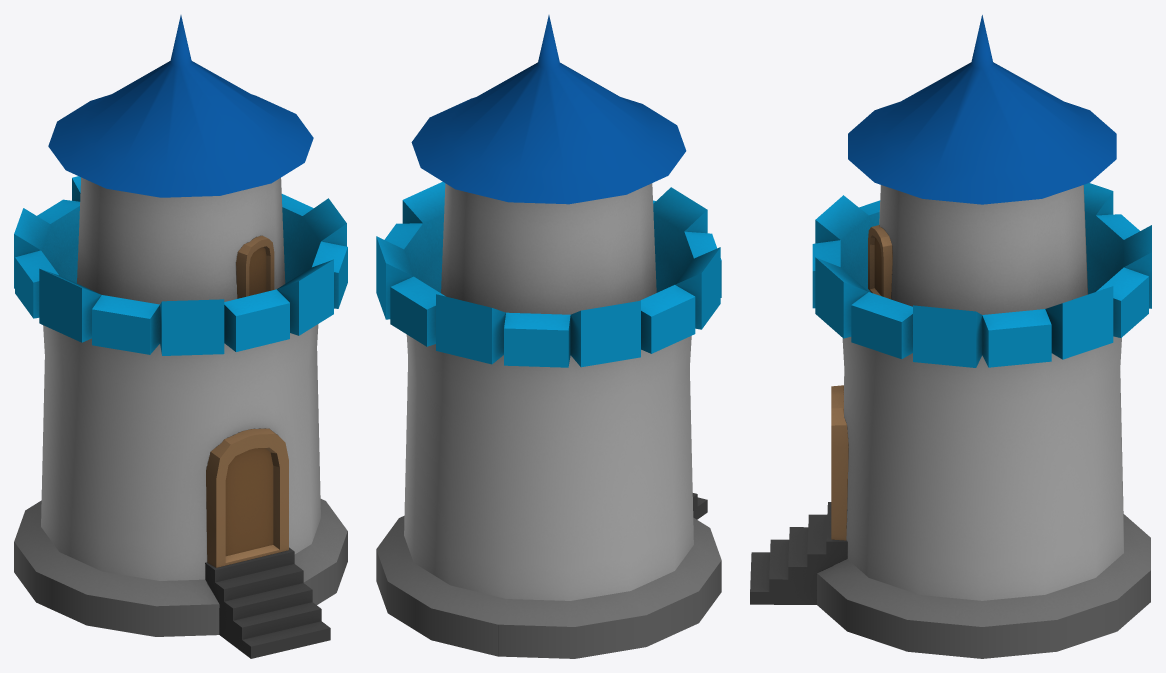
Rendered from house_2.FBX.
The picture shows the model from 3 angles, left to right: view 1: azimuth 30°, elevation 25°; view 2: azimuth 150°, elevation 25°; view 3: azimuth 270°, elevation 25°; orthographic projection. The views are drawn at different scales.
Visible parts, largest first — view 1: house_2; view 2: house_2; view 3: house_2.
Part boxes in pixels (x1,y1,x2,y2): house_2: (14, 15, 347, 658); house_2: (376, 15, 721, 658); house_2: (750, 15, 1151, 658).
Bounding box in the file's own units: 91.29 × 167 × 106.
